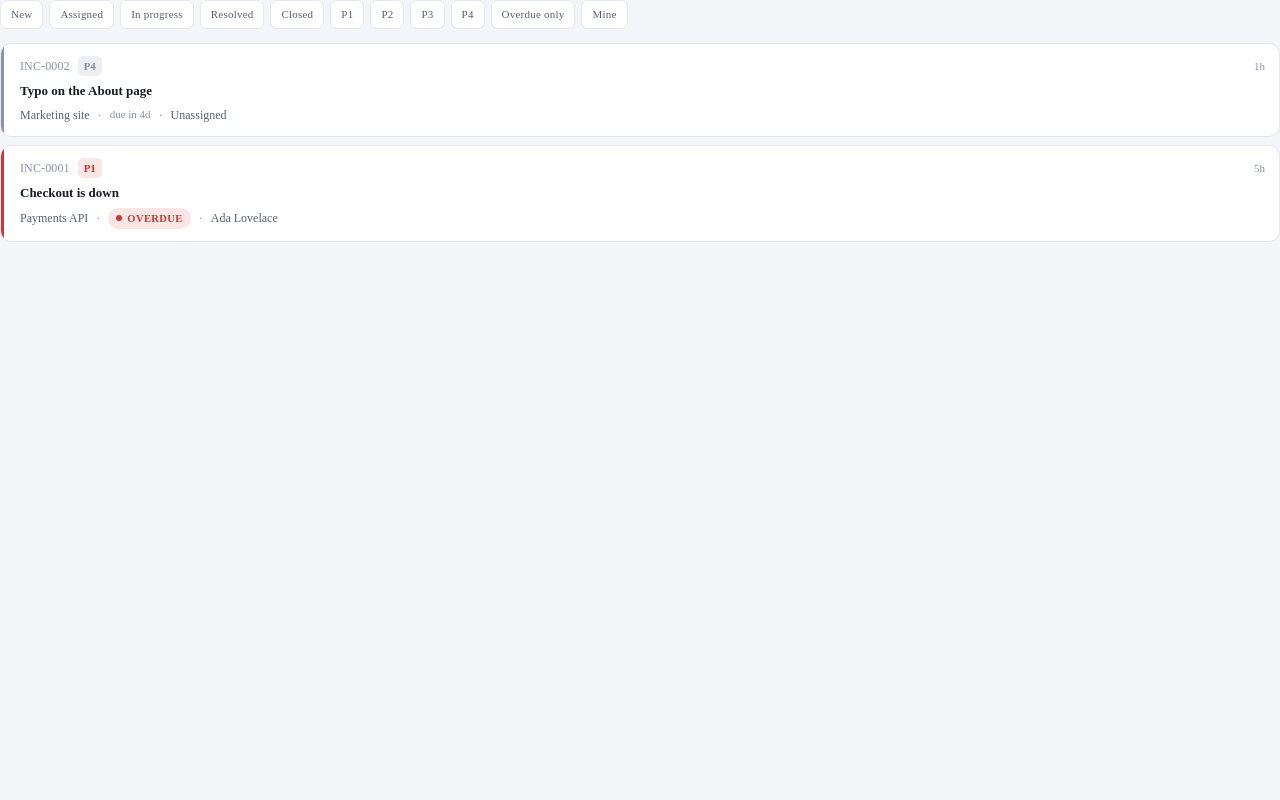
Test: clicking a card opens the drawer, which fetches the incident
The width and height of the screenshot is (1280, 800).
Click the button "INC-0001".
click(45, 168)  # box x1=0 y1=144 x2=1279 y2=242
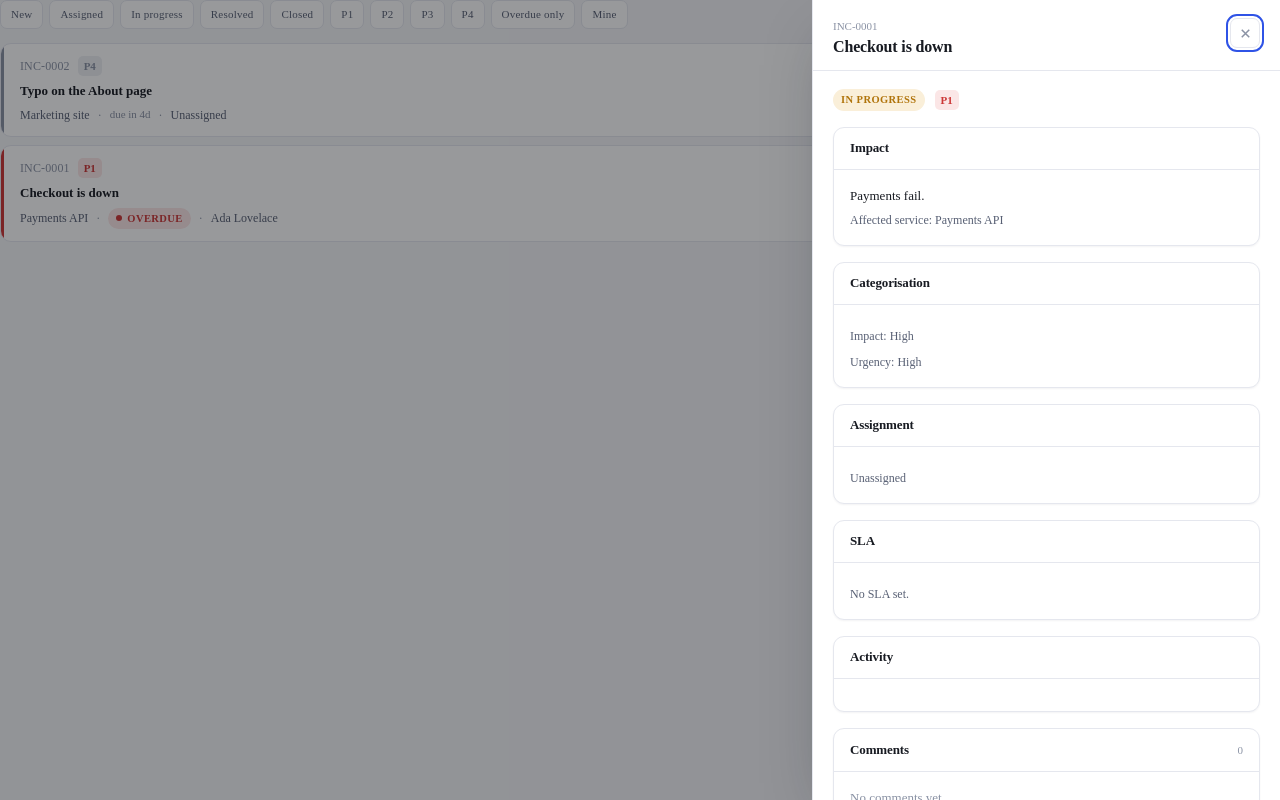
Expected: the element with test id "drawer-scrim" is shown
